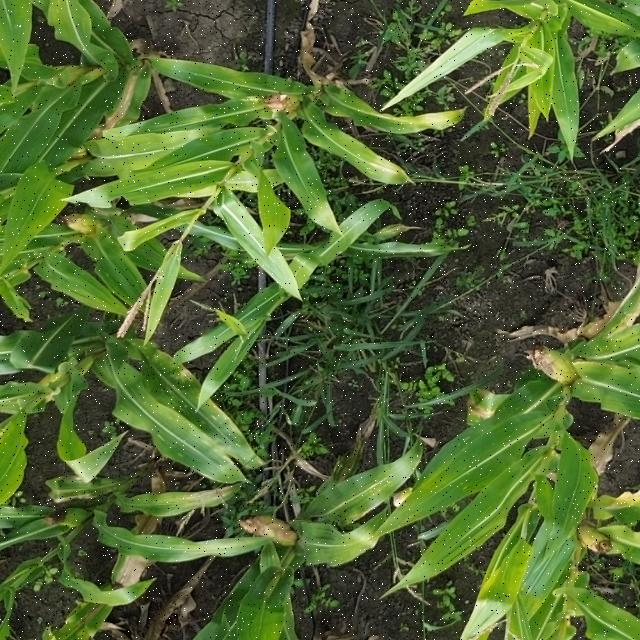gray-leaf-spot: (151, 425, 196, 461)
northern-leaf-blight: (109, 77, 146, 125), (184, 481, 242, 506)
southern-leaf-blight: (148, 354, 230, 428), (334, 89, 404, 134), (454, 449, 490, 492), (350, 476, 398, 506), (556, 481, 584, 528)
